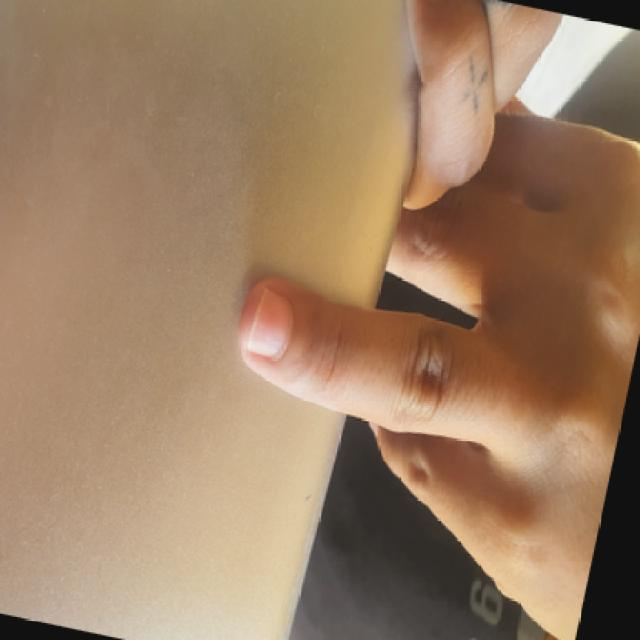Nail: (248, 288, 291, 356)
